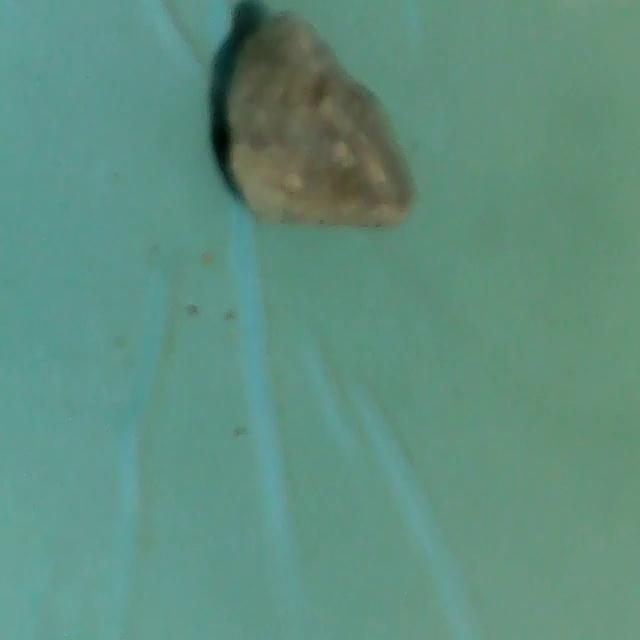rock: (213, 22, 425, 239)
